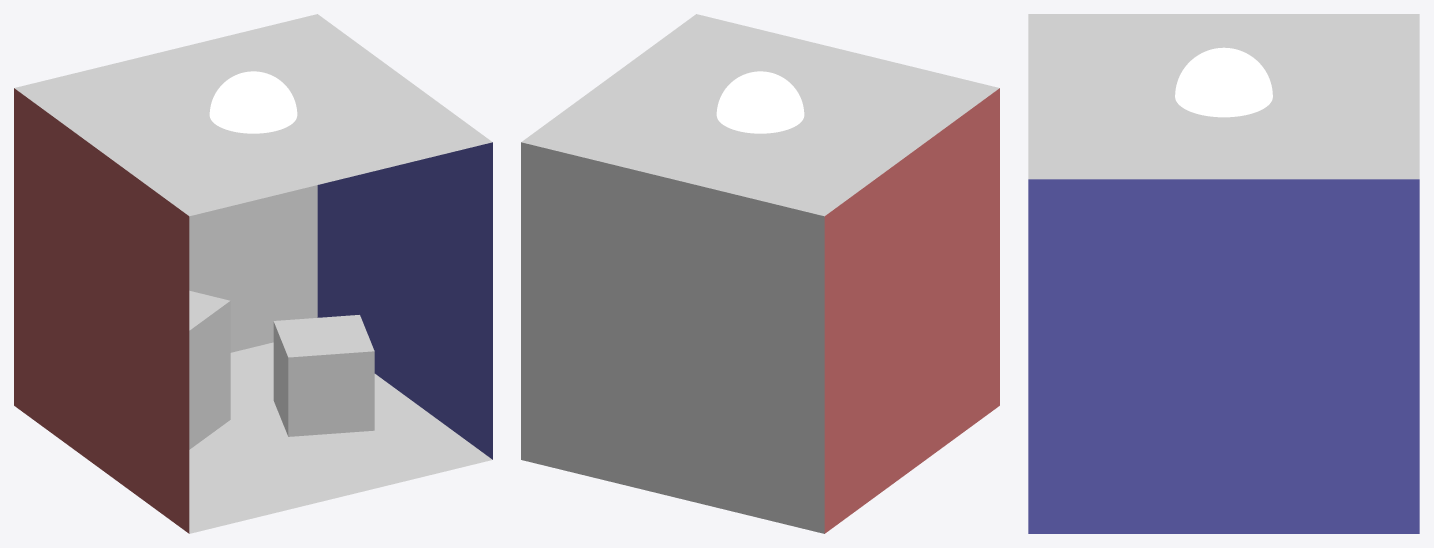
Rendered from sphere-emissive.gltf.
3 renders of one model, left to right at view 1: azimuth 30°, elevation 25°; view 2: azimuth 150°, elevation 25°; view 3: azimuth 270°, elevation 25°, orthographic. The views are drawn at different scales.
Parts seen in each view (by area): view 1: Plane.004, Plane.001, Plane.003, Plane, Plane.002, Cube.001, Cube, Icosphere; view 2: Plane.002, Plane.004, Plane.001, Icosphere; view 3: Plane.003, Plane.001, Icosphere.
Boxes of the visible parts, x1,y1,x2,y2 form: Plane.004: (14,88,189,533); Plane.001: (14,14,492,216); Plane.003: (317,142,492,459); Plane: (189,342,492,533); Plane.002: (189,185,317,352); Cube.001: (273,315,374,436); Cube: (189,290,230,449); Icosphere: (209,71,297,133); Plane.002: (521,142,824,533); Plane.004: (824,88,999,533); Plane.001: (521,14,999,216); Icosphere: (716,71,804,133); Plane.003: (1028,179,1419,533); Plane.001: (1028,14,1419,179); Icosphere: (1175,47,1272,117).
Size of the model in its own units: 4 by 4.5 by 4.
